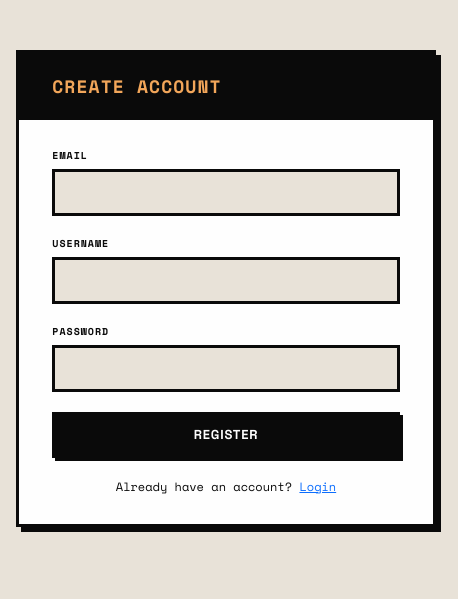
Register page › shows the server error message on failure
Type "dup@example.com" into the field labelled "Email" at [226, 193], box [52,169,400,216]
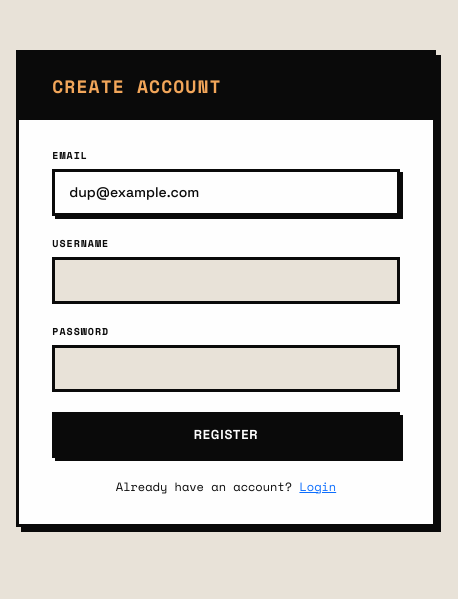
Type "dupuser" into the field labelled "Username" at [226, 281], box [52,257,400,304]
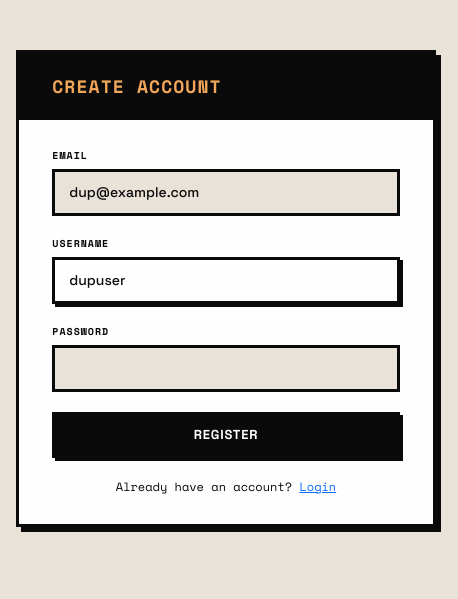
Type "pass" into the password field labelled "Password" at [226, 369], box [52,345,400,392]
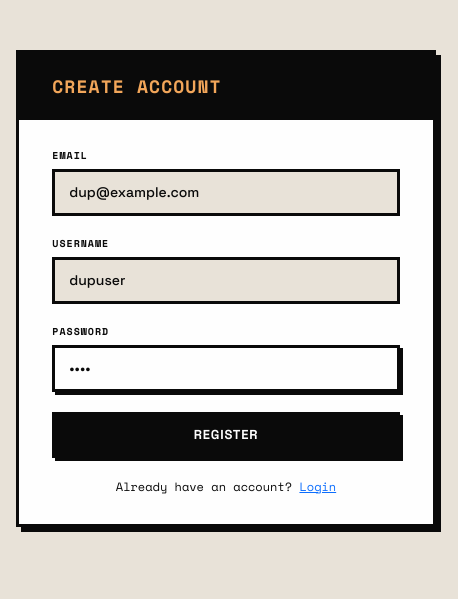
Click the button "Register" at [226, 435], box [52,412,400,458]
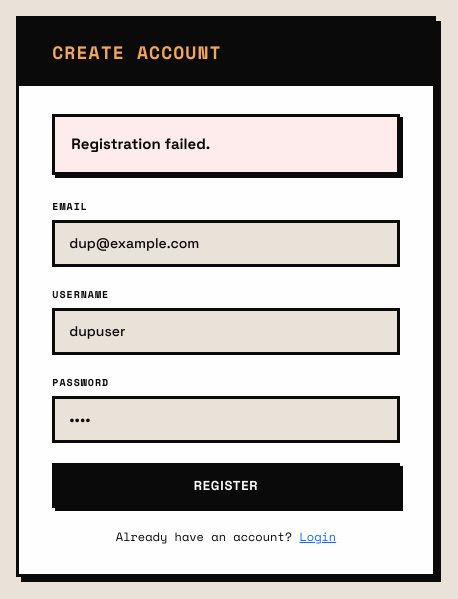
Now the text "Registration failed." is shown, box [52,114,400,174]
